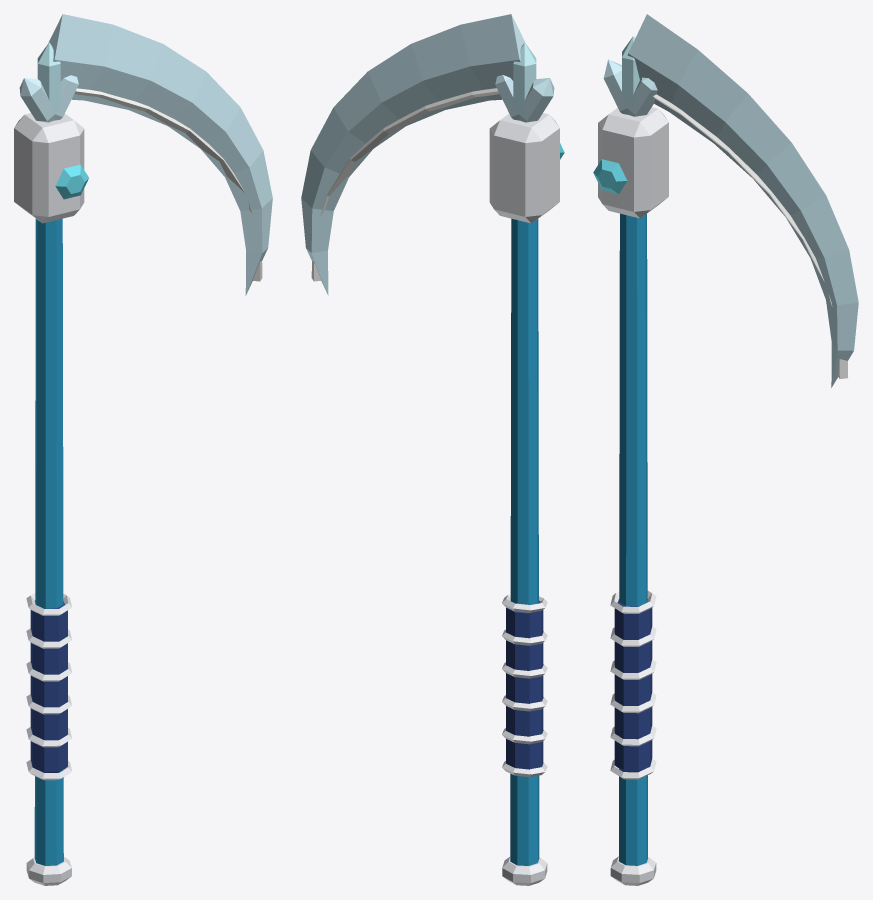
File: FrostScythe.fbx
The picture shows the model from 3 angles, left to right: view 1: azimuth 30°, elevation 25°; view 2: azimuth 150°, elevation 25°; view 3: azimuth 330°, elevation 25°; orthographic projection.
Visible parts, largest first — view 1: FrostScythe; view 2: FrostScythe; view 3: FrostScythe.
Part boxes in pixels (x1=…): FrostScythe: x1=14, y1=14, x2=272, y2=885; FrostScythe: x1=301, y1=14, x2=564, y2=885; FrostScythe: x1=593, y1=14, x2=858, y2=885.
Bounding box in the file's own units: 1.93 × 6.3 × 0.55.
1 material, 1 textured.
